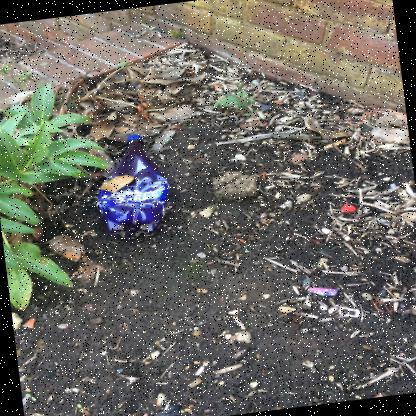Clear plastic bottle: (96, 134, 170, 239)
Metal bottle cap: (341, 203, 355, 212)
Other plastic: (308, 287, 338, 296)
Plastic bottle cap: (127, 134, 143, 140)
Pop tab: (339, 306, 360, 317), (341, 308, 349, 314), (349, 310, 355, 315)
